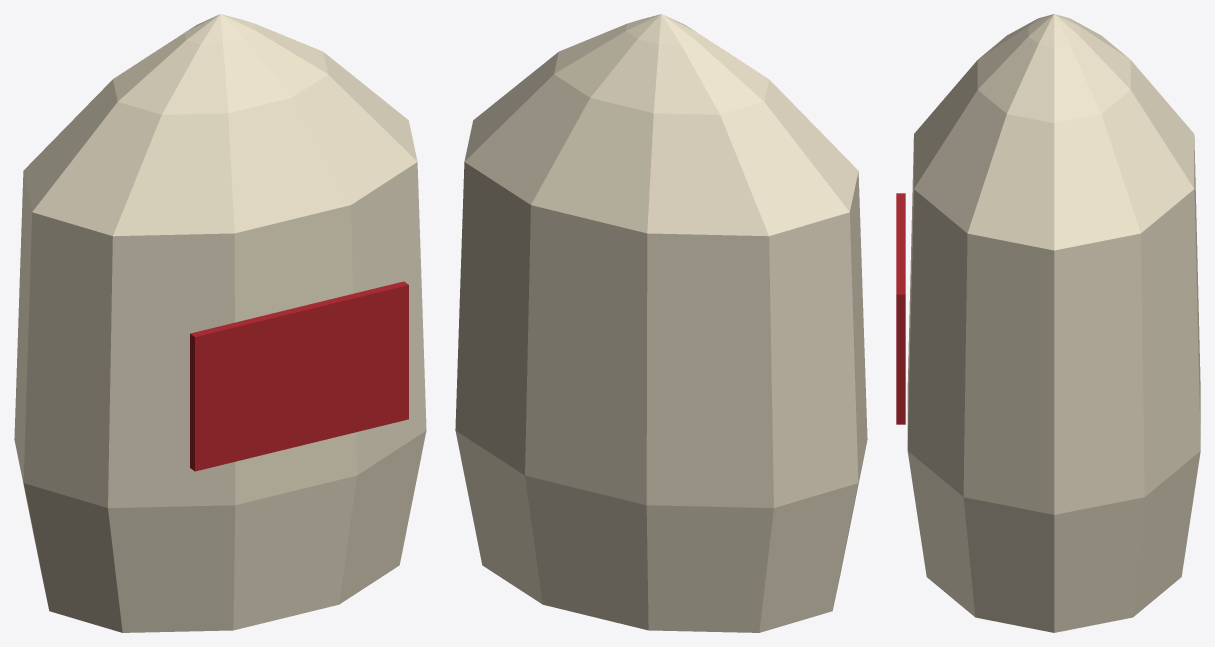
The model's file is PRP_RiceSack.fbx.
The picture shows the model from 3 angles, left to right: view 1: azimuth 30°, elevation 25°; view 2: azimuth 150°, elevation 25°; view 3: azimuth 270°, elevation 25°; orthographic projection. The views are drawn at different scales.
Parts seen in each view (by area): view 1: PRP_RiceSack; view 2: PRP_RiceSack; view 3: PRP_RiceSack.
Part boxes in pixels (x1,y1,x2,y2): PRP_RiceSack: [14, 14, 426, 632]; PRP_RiceSack: [455, 14, 867, 632]; PRP_RiceSack: [896, 14, 1200, 632].
Size of the model in its own units: 0.46 by 0.62 by 0.3181.
